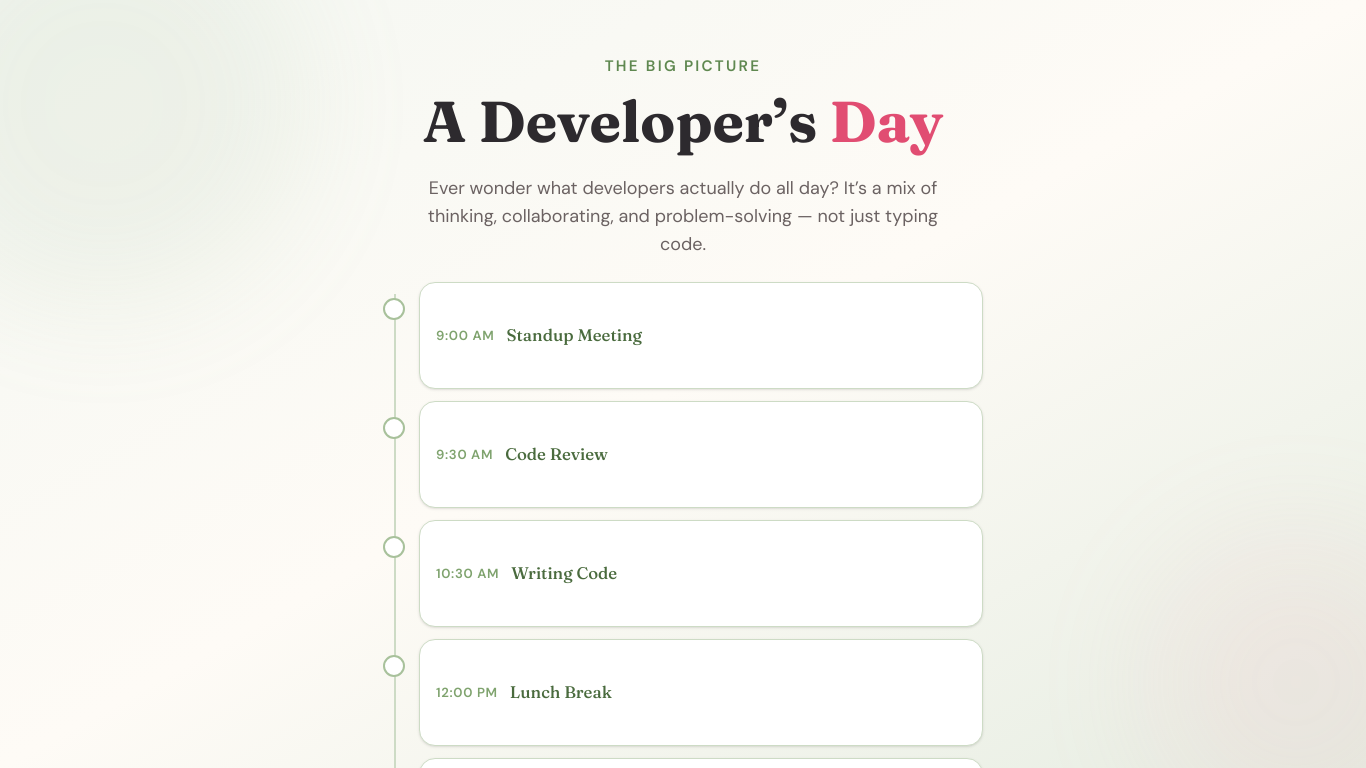
Scenario: DevDaySlide › collapses an activity when clicked again
What coordinates should you click on to do the following:
click the button "9:00 AM Standup Meeting"
I would click on:
 (465, 335)
Its box is [419,282,983,389].
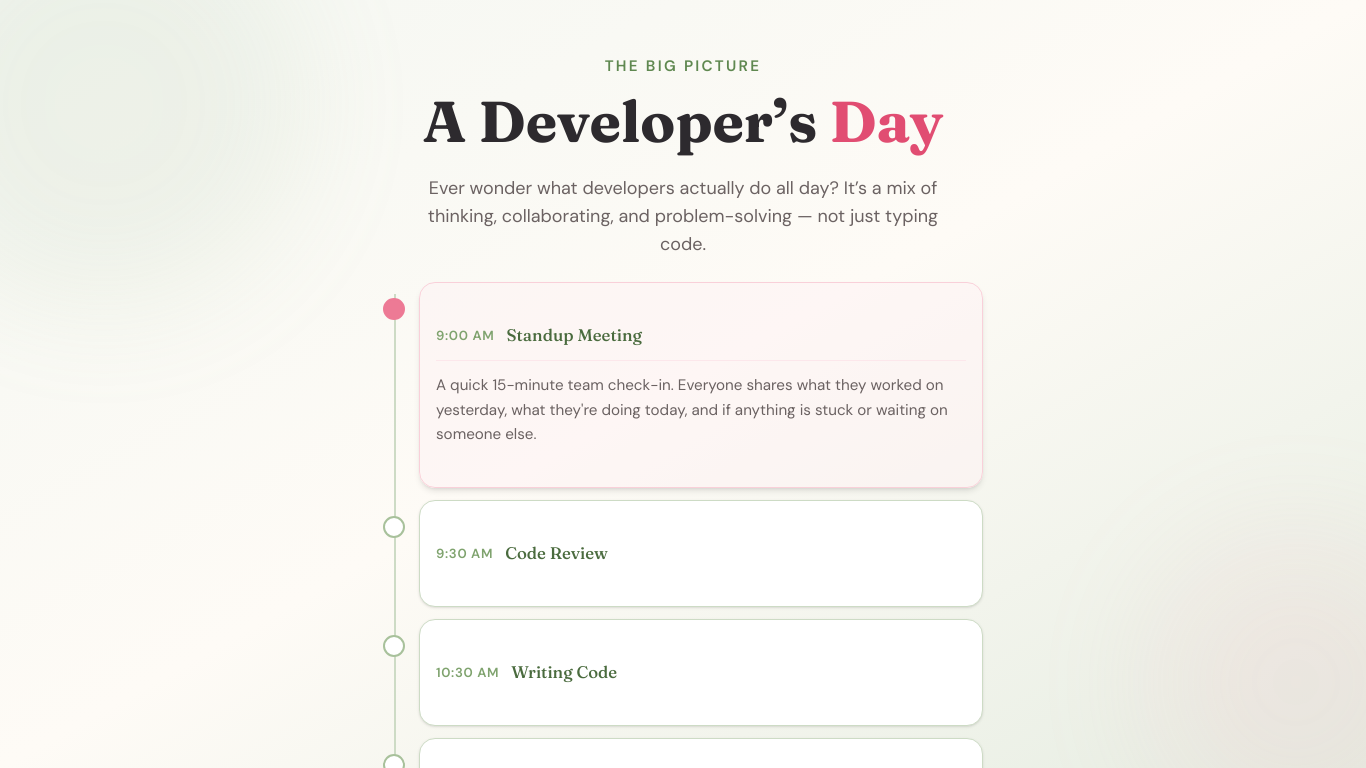
Result: the text "A quick 15-minute team check-in" is shown at [436,375,948,444]
What coordinates should you click on to do the following:
click the button "Standup Meeting"
I would click on:
 (701, 385)
Its box is [419,282,983,488].
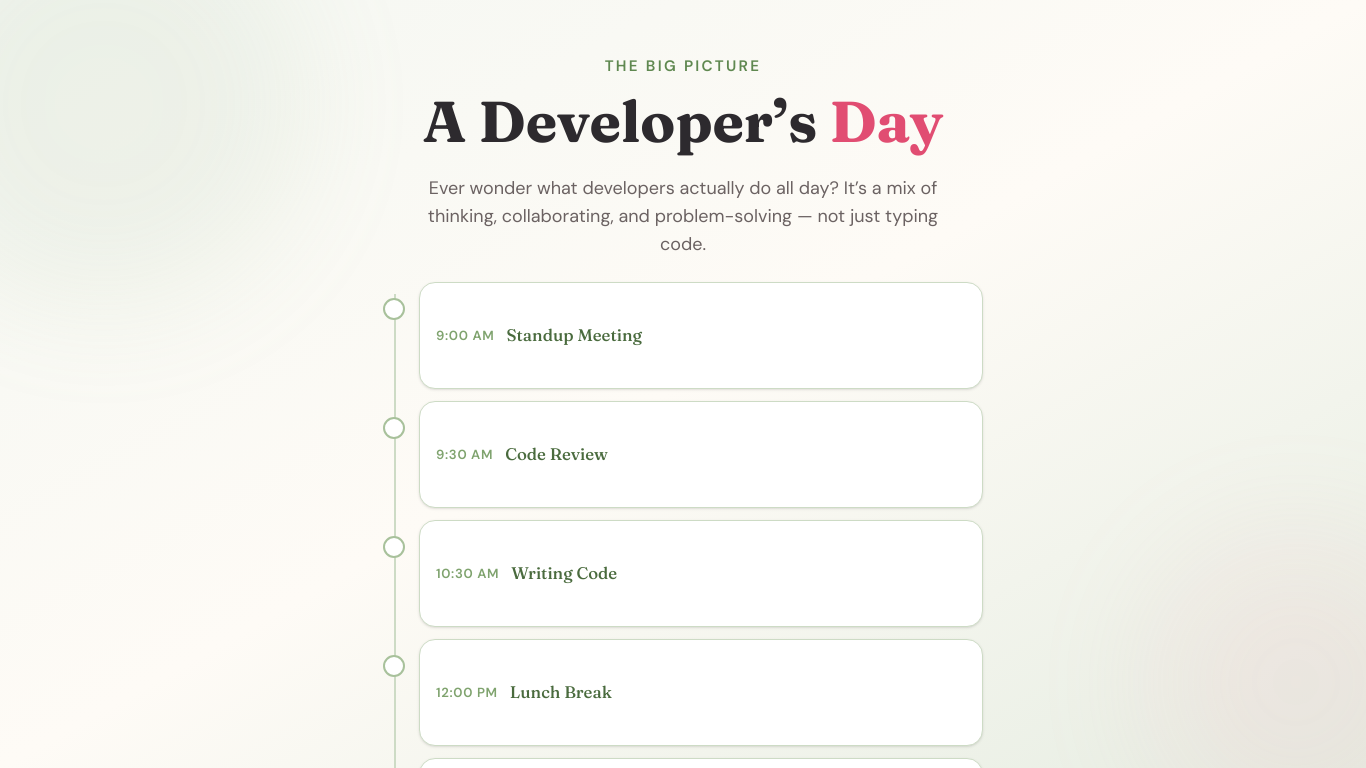
Result: the text "A quick 15-minute team check-in" is gone
